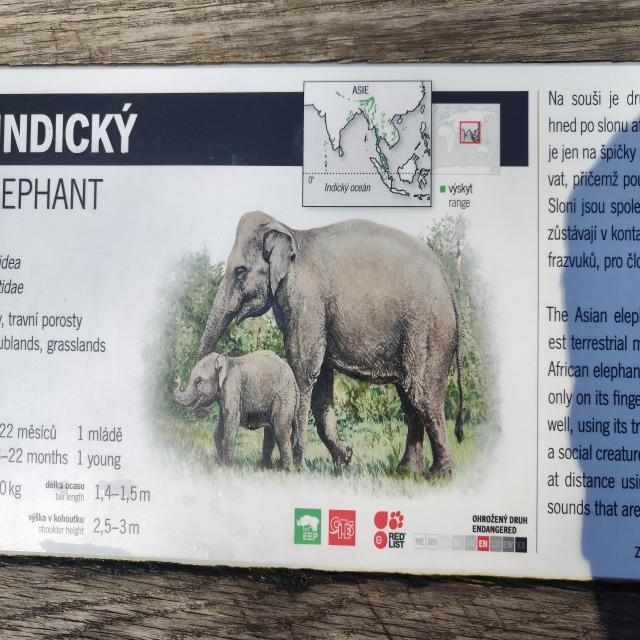elephant: (195, 209, 465, 478), (173, 349, 300, 472)
